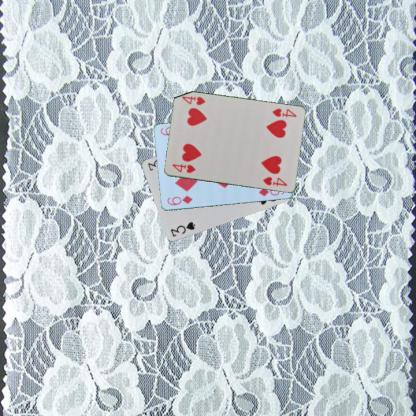3s: (168, 220, 197, 238)
4h: (170, 161, 196, 175), (270, 106, 297, 119)
6d: (165, 193, 194, 207)
